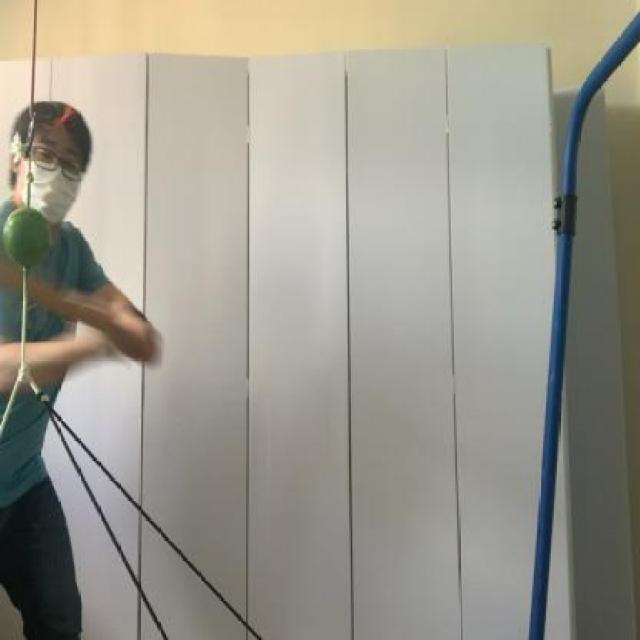baseball: (0, 200, 60, 280)
